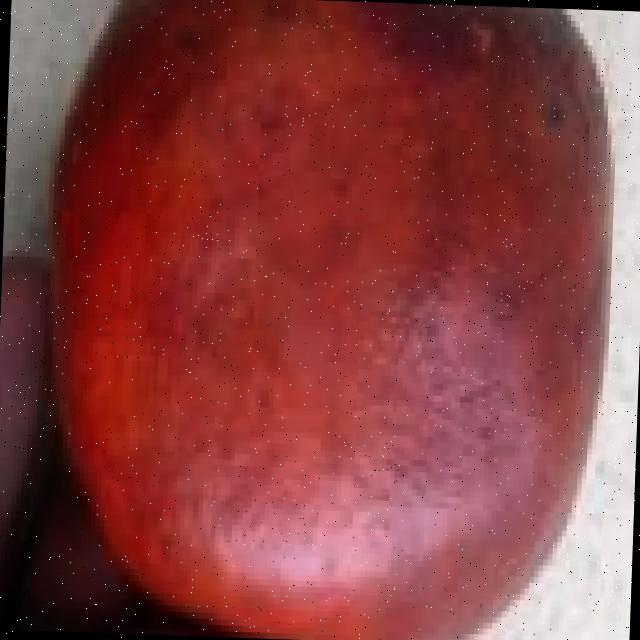Bad_Pomegranate-0-1-day: (54, 0, 610, 640)
